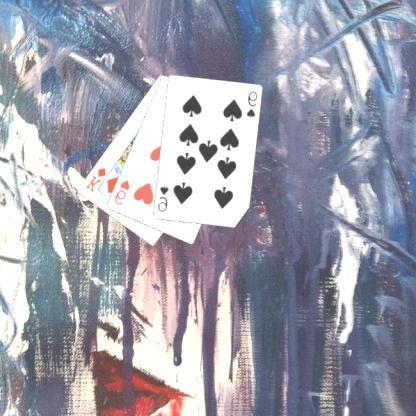6H: (114, 177, 132, 207)
9S: (245, 88, 261, 120), (156, 183, 172, 213)
KD: (84, 164, 109, 194)
